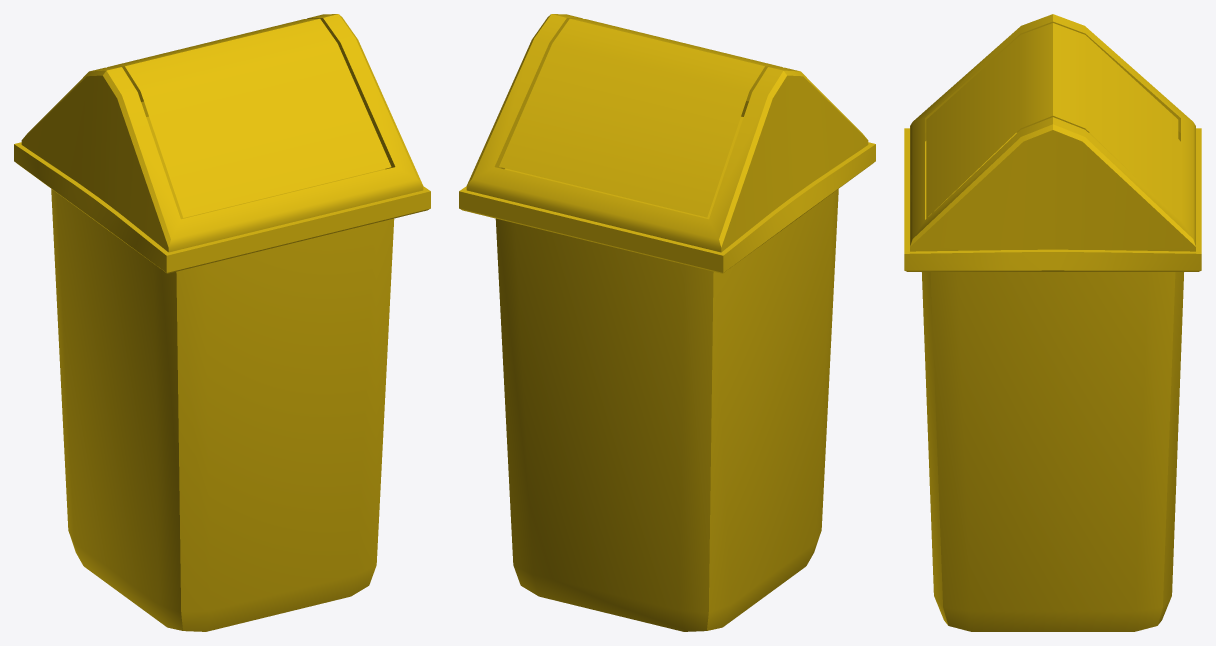
Rendered from Parts_TrashCan 1.fbx.
The picture shows the model from 3 angles, left to right: view 1: azimuth 30°, elevation 25°; view 2: azimuth 150°, elevation 25°; view 3: azimuth 270°, elevation 25°; orthographic projection. The views are drawn at different scales.
Parts seen in each view (by area): view 1: Box014; view 2: Box014; view 3: Box014.
Boxes of the visible parts, left/top/right/bottom form: Box014: left=14, top=14, right=430, bottom=631; Box014: left=459, top=14, right=875, bottom=631; Box014: left=904, top=14, right=1201, bottom=631.
Size of the model in its own units: 16.44 by 32.06 by 16.44.
